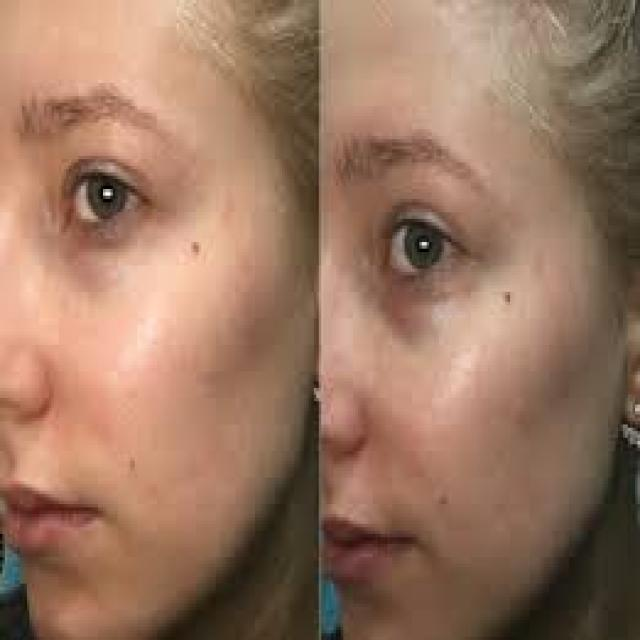Puffy Eyes - v3 Dark Circle: (373, 268, 487, 344)
